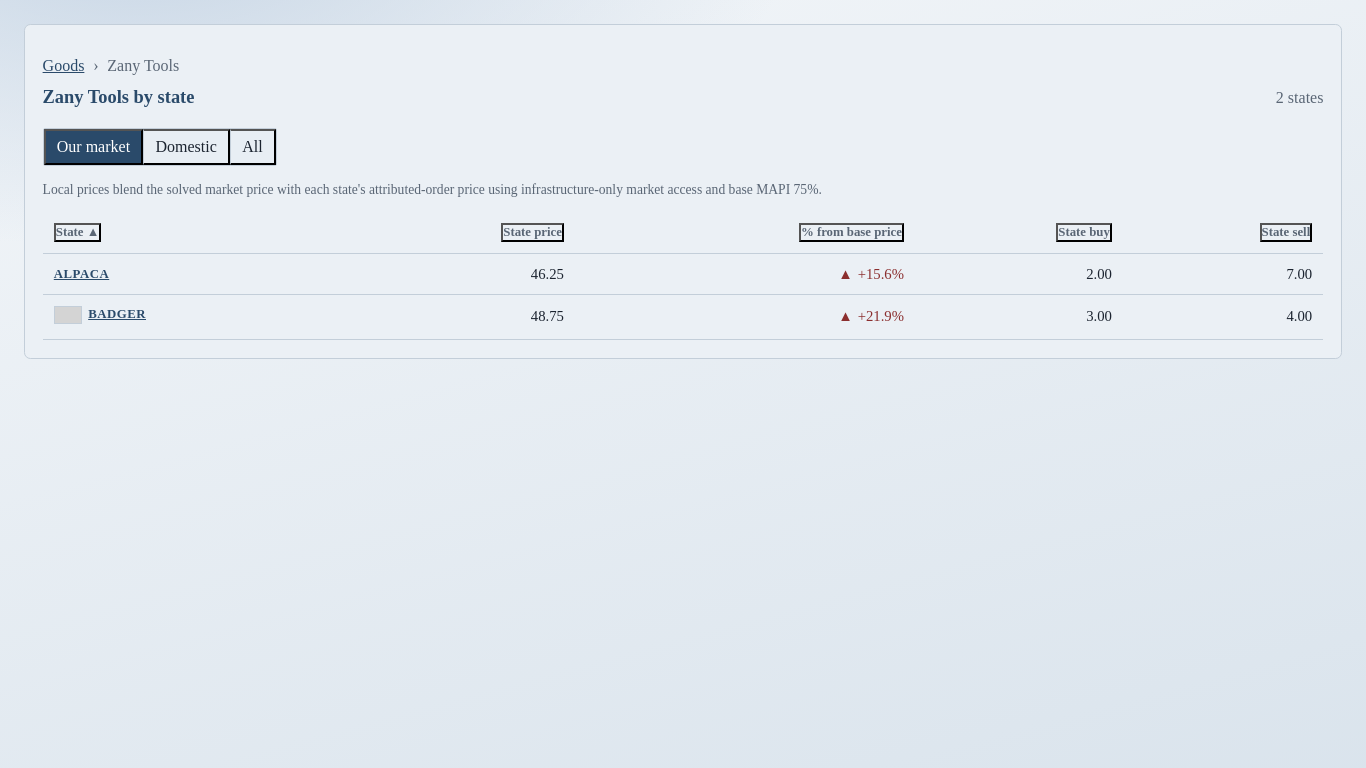
Test: PriceExplorer › shows every state in all scope
This screenshot has width=1366, height=768.
Click the button "All" at [253, 147], box x1=230 y1=129 x2=276 y2=165
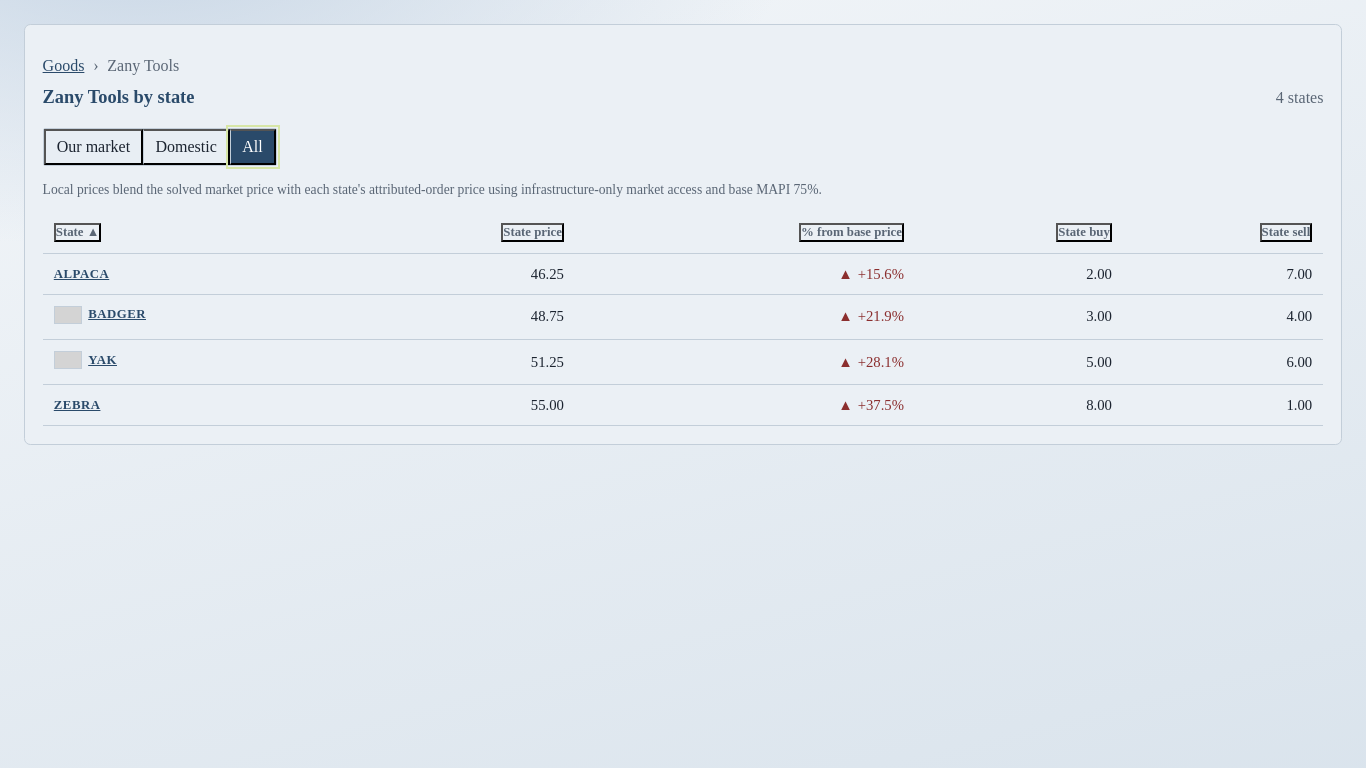
Check: the link "Alpaca" is shown, box x1=54 y1=266 x2=109 y2=282
Check: the link "Zebra" is shown, box x1=54 y1=398 x2=100 y2=413
Check: the link "Yak" is shown, box x1=54 y1=351 x2=117 y2=369
